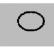no answer: (15, 10, 46, 33)
